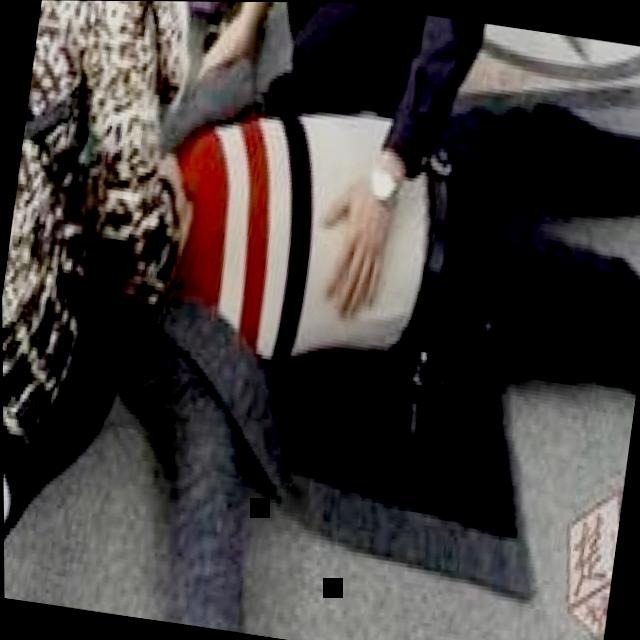Fall-Detected: (52, 0, 640, 640)
